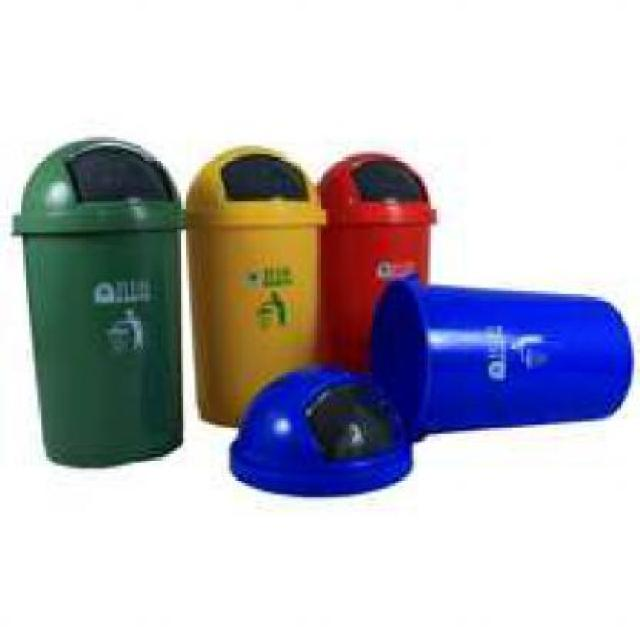garbage container: (3, 131, 186, 486), (346, 271, 634, 451), (180, 134, 317, 421), (320, 145, 431, 373)
